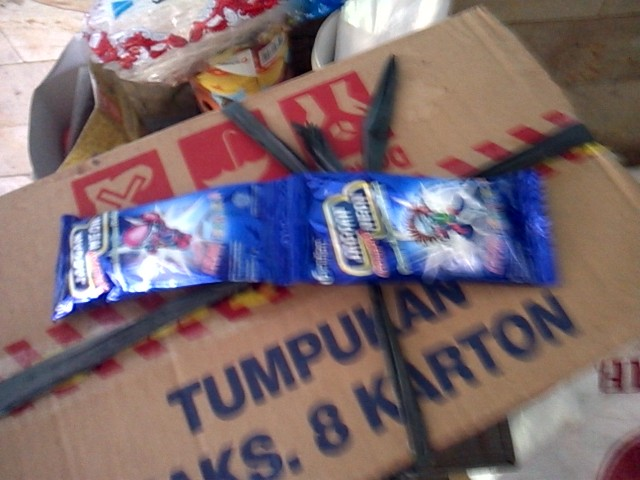jagoan neon: (53, 177, 286, 322), (284, 171, 554, 286)
